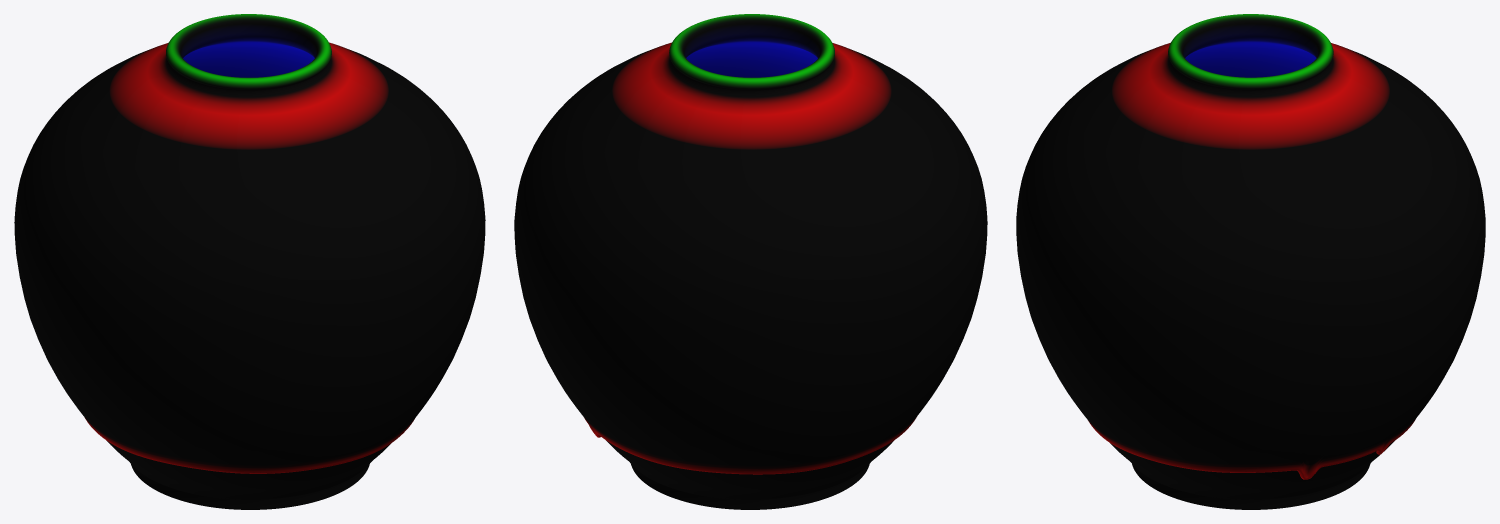
File: vase_black.fbx
3 views of the same model, side by side, from view 1: azimuth 30°, elevation 25°; view 2: azimuth 150°, elevation 25°; view 3: azimuth 270°, elevation 25° (orthographic).
Parts seen in each view (by area): view 1: vase_black; view 2: vase_black; view 3: vase_black.
Part boxes in pixels (x1=…): vase_black: x1=14, y1=14, x2=485, y2=509; vase_black: x1=514, y1=14, x2=987, y2=509; vase_black: x1=1016, y1=14, x2=1485, y2=509.
Bounding box in the file's own units: 0.166 × 0.1654 × 0.1604.
